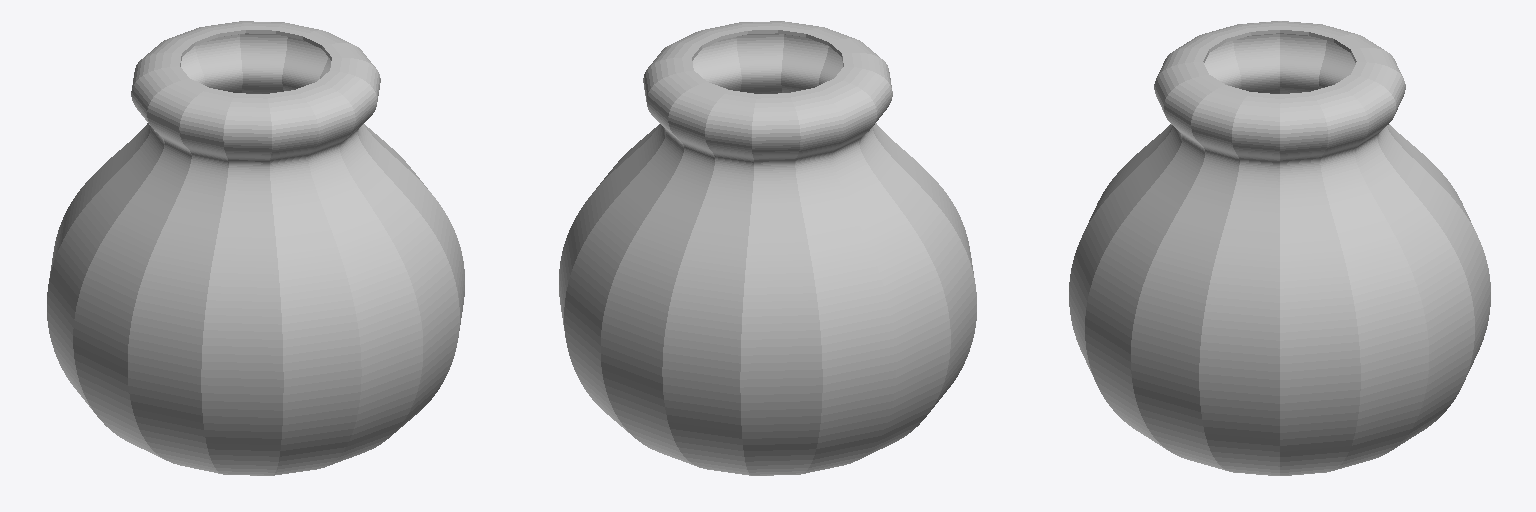
The model's file is pot.obj.
The picture shows the model from 3 angles: view 1: azimuth 30°, elevation 25°; view 2: azimuth 150°, elevation 25°; view 3: azimuth 270°, elevation 25°; orthographic projection.
Visible parts, largest first — view 1: NurbsPath; view 2: NurbsPath; view 3: NurbsPath.
Boxes of the visible parts, <box> form: NurbsPath: <box>47,21,464,475</box>; NurbsPath: <box>559,21,976,475</box>; NurbsPath: <box>1069,21,1490,475</box>.
Size of the model in its own units: 2.12 by 2.15 by 2.12.